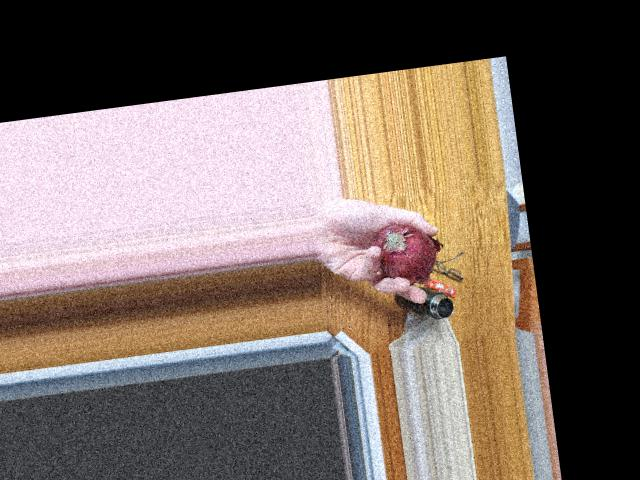onion: (364, 216, 434, 281)
